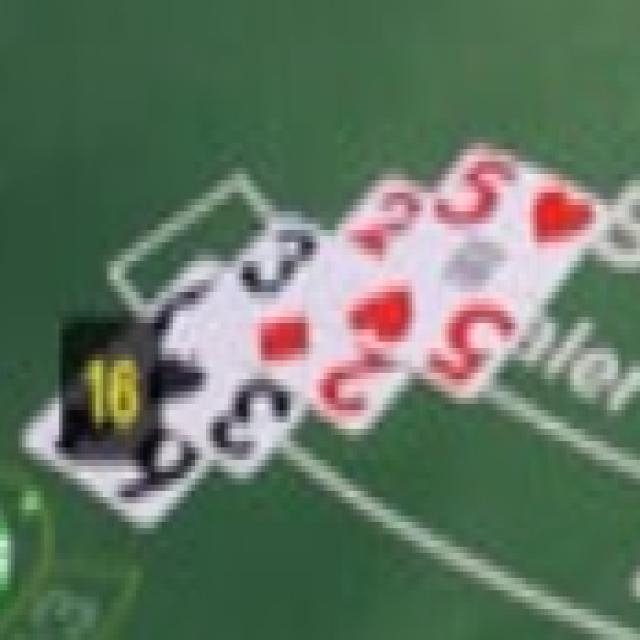Card-2: (251, 170, 435, 440)
Card-3: (143, 209, 331, 482)
Card-5: (347, 136, 616, 404)
Card-6: (19, 251, 230, 534)
